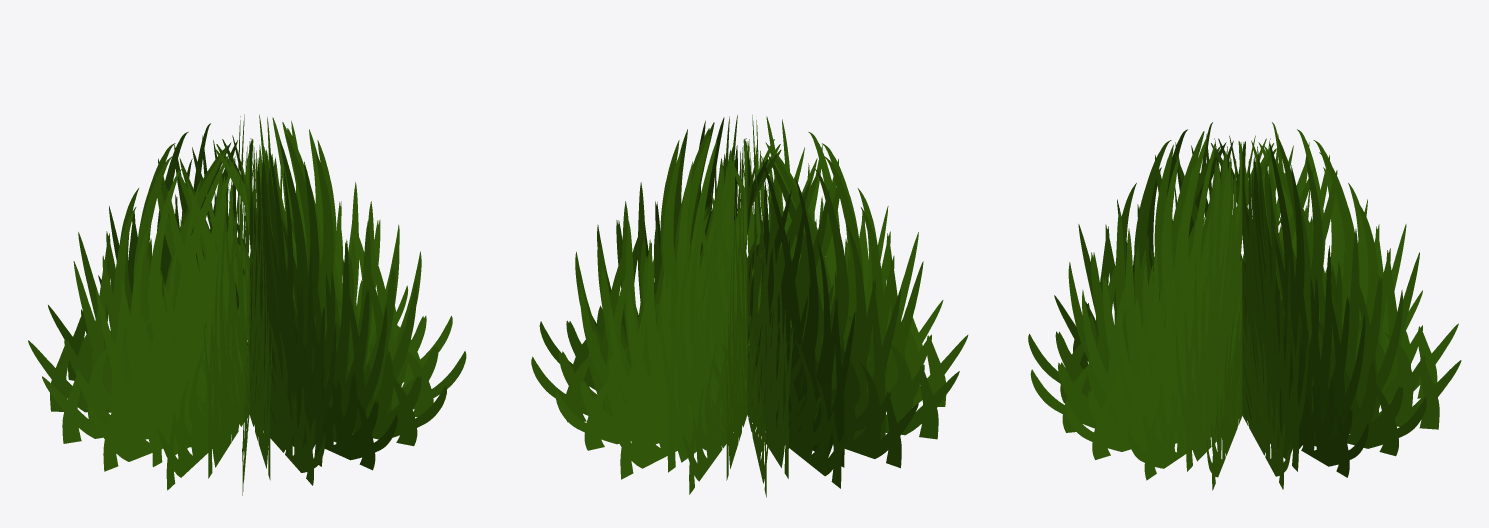
The model's file is mesh_bushMove.fbx.
3 renders of one model, left to right at view 1: azimuth 30°, elevation 25°; view 2: azimuth 150°, elevation 25°; view 3: azimuth 270°, elevation 25°, orthographic.
Parts seen in each view (by area): view 1: mesh_bush; view 2: mesh_bush; view 3: mesh_bush.
Boxes of the visible parts, bbox=[...] form: mesh_bush: bbox=[28, 114, 466, 495]; mesh_bush: bbox=[531, 115, 968, 497]; mesh_bush: bbox=[1028, 122, 1461, 490].
Size of the model in its own units: 2.47 by 1.89 by 2.47.
